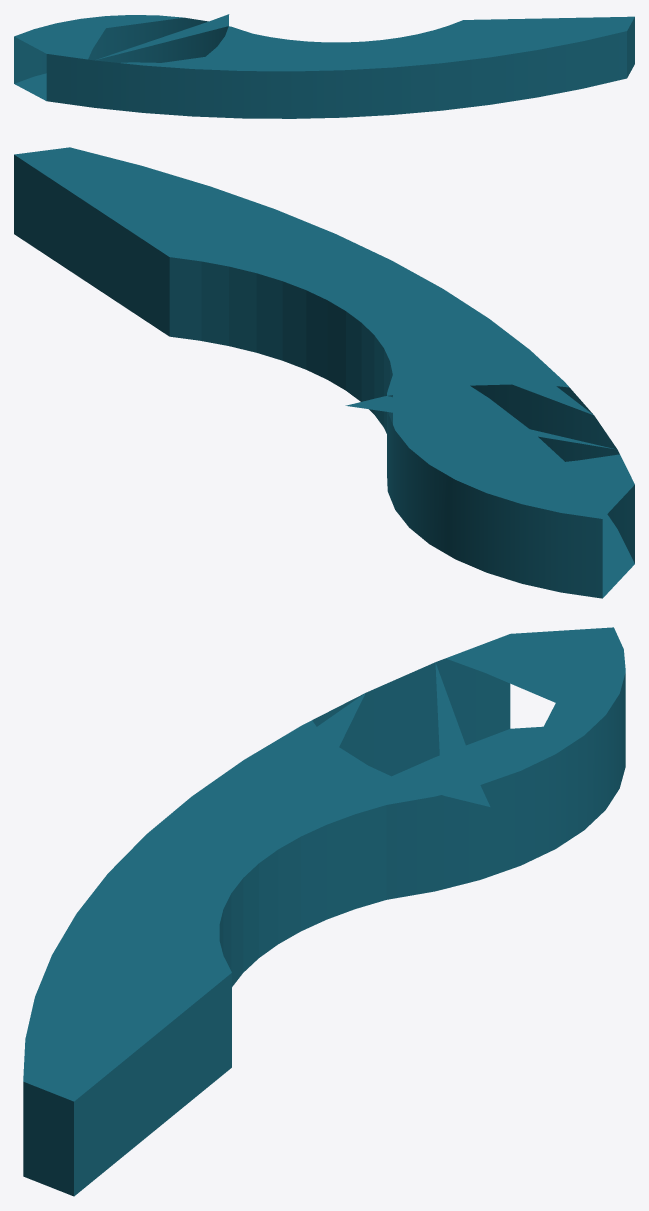
The picture shows the model from 3 angles, top to bottom: view 1: azimuth 30°, elevation 25°; view 2: azimuth 150°, elevation 25°; view 3: azimuth 270°, elevation 25°; orthographic projection. The views are drawn at different scales.
Bounding box in the file's own units: 0.4775 × 0.0446 × 0.2564.
